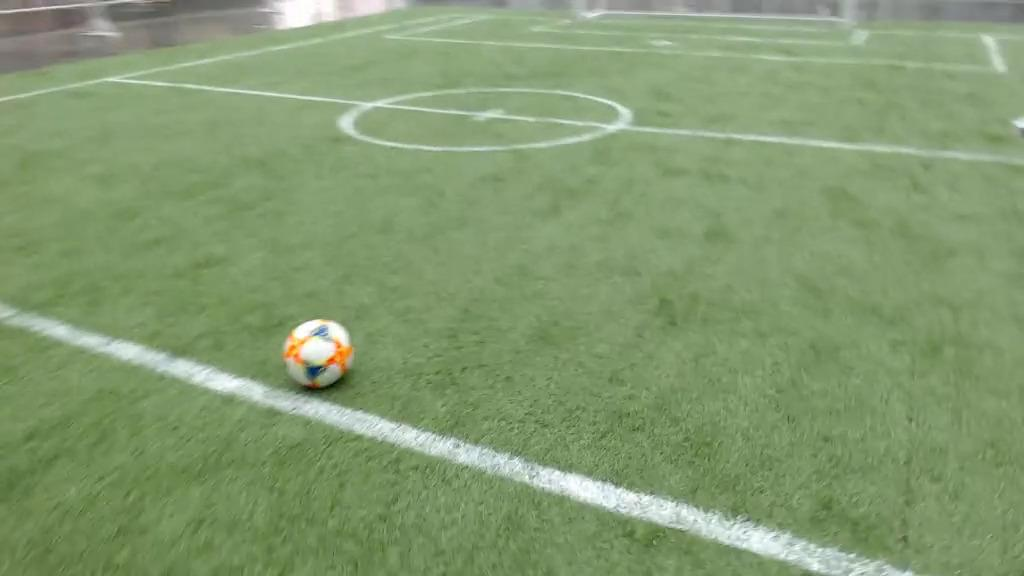ball: (282, 320, 354, 392)
